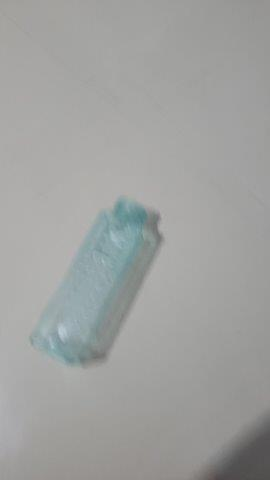botolplastik: (29, 197, 159, 368)
